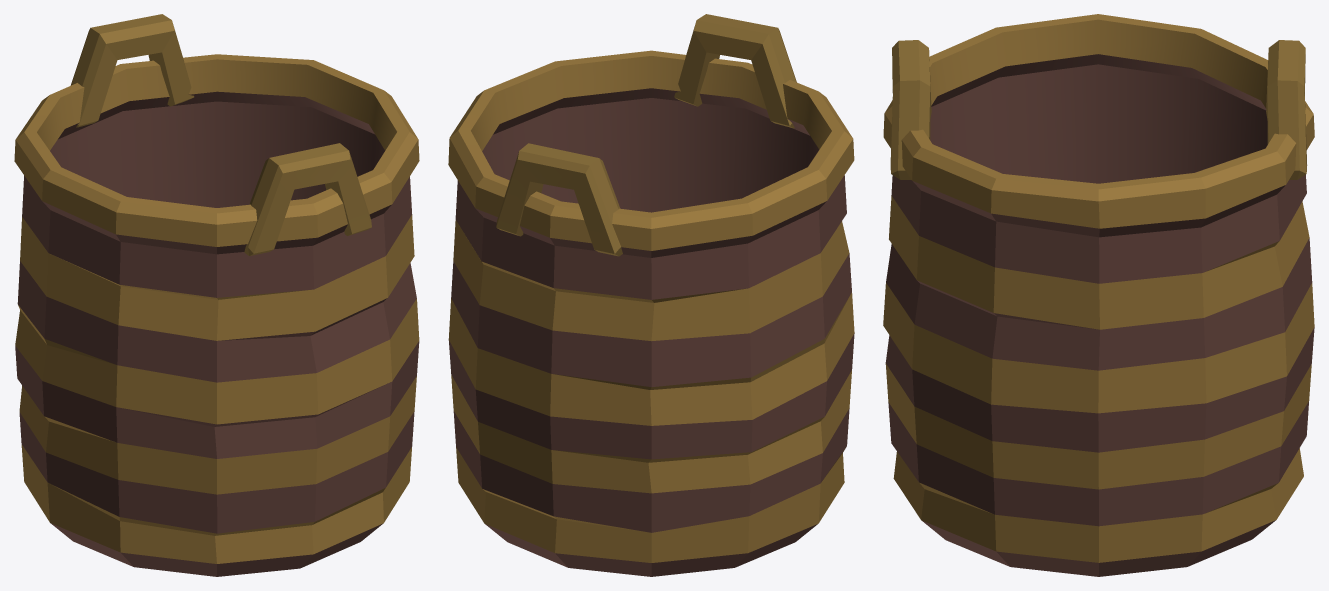
File: SM_Prop_Basket_01.fbx
The picture shows the model from 3 angles, left to right: view 1: azimuth 30°, elevation 25°; view 2: azimuth 150°, elevation 25°; view 3: azimuth 270°, elevation 25°; orthographic projection. The views are drawn at different scales.
Visible parts, largest first — view 1: SM_Prop_Basket_01; view 2: SM_Prop_Basket_01; view 3: SM_Prop_Basket_01.
Boxes of the visible parts, x1,y1,x2,y2 form: SM_Prop_Basket_01: (14, 14, 419, 576); SM_Prop_Basket_01: (448, 14, 854, 576); SM_Prop_Basket_01: (883, 14, 1314, 576).
Size of the model in its own units: 0.5003 by 0.5721 by 0.5007.
